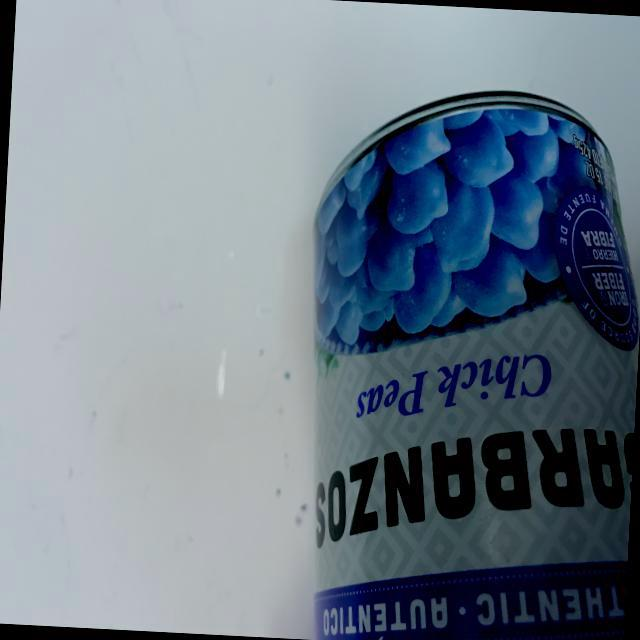metal: (285, 68, 640, 640)
